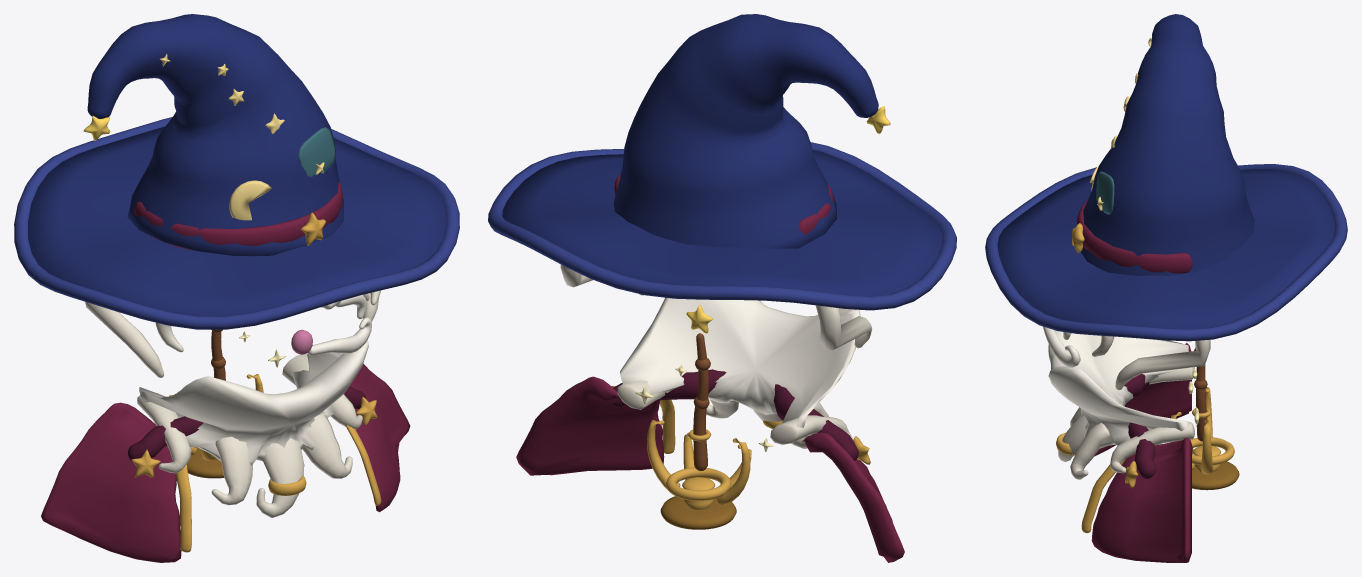
Rendered from wizard.glb.
The picture shows the model from 3 angles, left to right: view 1: azimuth 30°, elevation 25°; view 2: azimuth 150°, elevation 25°; view 3: azimuth 270°, elevation 25°; orthographic projection. The views are drawn at different scales.
Parts seen in each view (by area): view 1: hat_brim, hat_cone, cape, beard, hat_hem, lock_1, hat_band, lock_2, lock_0, hair_0, cape_trim, collar (+5 smaller); view 2: hat_cone, hat_brim, beard, cape, hat_hem, collar, hair_0, lock_2, orb_foot, wand_shaft, orb_cup, orb_talon_left (+3 smaller); view 3: hat_brim, hat_cone, cape, hat_hem, beard, hat_band, lock_2, hair_0, collar, lock_1, orb_foot, cape_trim (+6 smaller).
Part boxes in pixels (<box>): hat_brim: <box>28,126,446,316</box>; hat_cone: <box>87,14,344,256</box>; cape: <box>41,364,410,562</box>; beard: <box>139,340,368,465</box>; hat_hem: <box>14,117,459,329</box>; lock_1: <box>211,414,352,505</box>; hat_band: <box>134,182,342,250</box>; lock_2: <box>137,354,362,473</box>; lock_0: <box>256,438,304,517</box>; hair_0: <box>85,293,379,377</box>; cape_trim: <box>175,425,381,552</box>; collar: <box>128,386,366,461</box>; hat_cone: <box>613,14,878,248</box>; hat_brim: <box>502,149,942,296</box>; beard: <box>620,297,860,433</box>; cape: <box>516,376,904,562</box>; hat_hem: <box>488,142,956,310</box>; collar: <box>613,369,858,460</box>; hair_0: <box>560,264,871,349</box>; lock_2: <box>617,380,853,444</box>; orb_foot: <box>660,496,736,529</box>; wand_shaft: <box>693,333,708,470</box>; orb_cup: <box>666,467,731,500</box>; orb_talon_left: <box>717,438,750,505</box>; hat_brim: <box>997,169,1335,329</box>; hat_cone: <box>1076,14,1254,275</box>; cape: <box>1091,343,1192,562</box>; hat_hem: <box>985,164,1347,341</box>; beard: <box>1048,330,1188,448</box>; hat_band: <box>1076,199,1192,273</box>; lock_2: <box>1110,367,1194,473</box>; hair_0: <box>1115,339,1210,390</box>; collar: <box>1124,373,1156,478</box>; lock_1: <box>1070,407,1109,479</box>; orb_foot: <box>1192,461,1239,490</box>; cape_trim: <box>1081,458,1126,533</box>.
Size of the model in its own units: 2.03 by 2.43 by 1.79.
